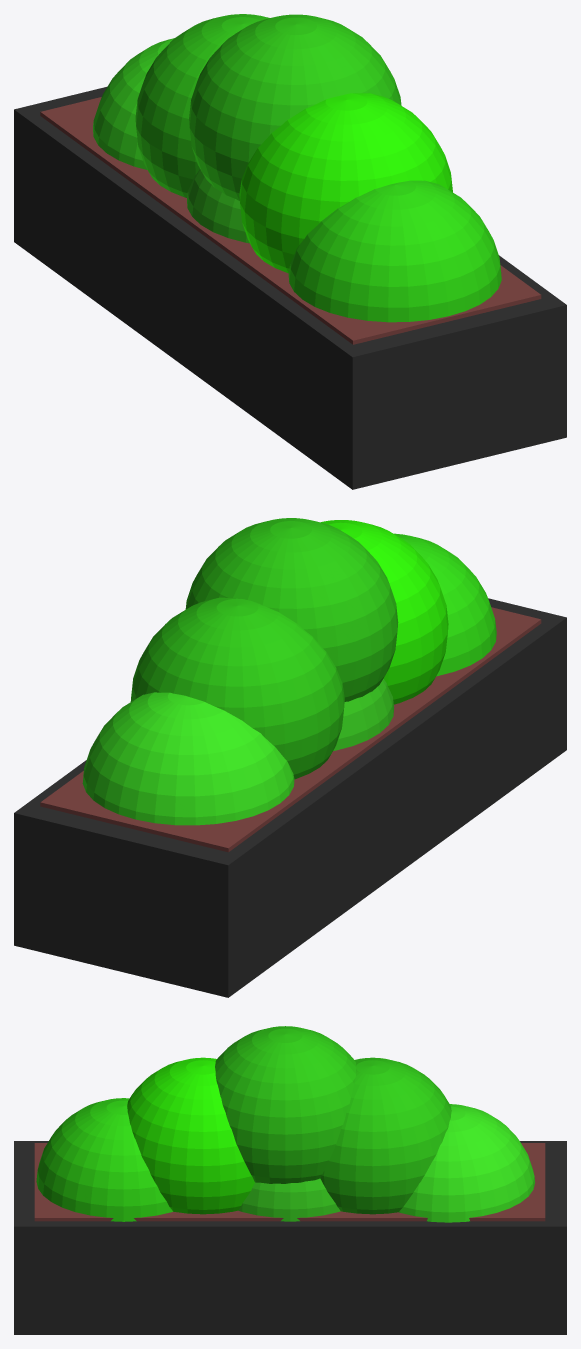
File: Plant.glb
The picture shows the model from 3 angles, top to bottom: view 1: azimuth 30°, elevation 25°; view 2: azimuth 150°, elevation 25°; view 3: azimuth 270°, elevation 25°; orthographic projection. The views are drawn at different scales.
Parts seen in each view (by area): view 1: Cube, Sphere.001, Sphere.003, Sphere.005, Sphere.004, Cube.001, Sphere.002, Sphere; view 2: Cube, Sphere.004, Sphere.002, Sphere.005, Cube.001, Sphere.003, Sphere.001, Sphere; view 3: Cube, Sphere.005, Sphere.004, Sphere.003, Sphere.001, Sphere.002, Cube.001, Sphere.
Part boxes in pixels (box(x1,y1,x2,y2)): Cube: box(14, 87, 566, 489); Sphere.001: box(288, 180, 501, 322); Sphere.003: box(239, 93, 452, 273); Sphere.005: box(189, 14, 401, 200); Sphere.004: box(135, 14, 269, 197); Cube.001: box(40, 97, 541, 344); Sphere.002: box(93, 38, 174, 169); Sphere: box(187, 169, 249, 243); Cube: box(14, 598, 566, 997); Sphere.004: box(130, 597, 344, 779); Sphere.002: box(82, 692, 294, 825); Sphere.005: box(185, 518, 398, 701); Cube.001: box(40, 607, 541, 852); Sphere.003: box(321, 520, 448, 704); Sphere.001: box(394, 533, 496, 676); Sphere: box(333, 679, 394, 750); Cube: box(14, 1141, 566, 1334); Sphere.005: box(215, 1026, 356, 1183); Sphere.004: box(320, 1057, 451, 1214); Sphere.003: box(127, 1057, 254, 1214); Sphere.001: box(36, 1098, 172, 1221); Sphere.002: box(399, 1104, 535, 1222); Cube.001: box(34, 1143, 545, 1221); Sphere: box(238, 1178, 340, 1221).
Bounding box in the file's own units: 2 × 2.83 × 5.47.
